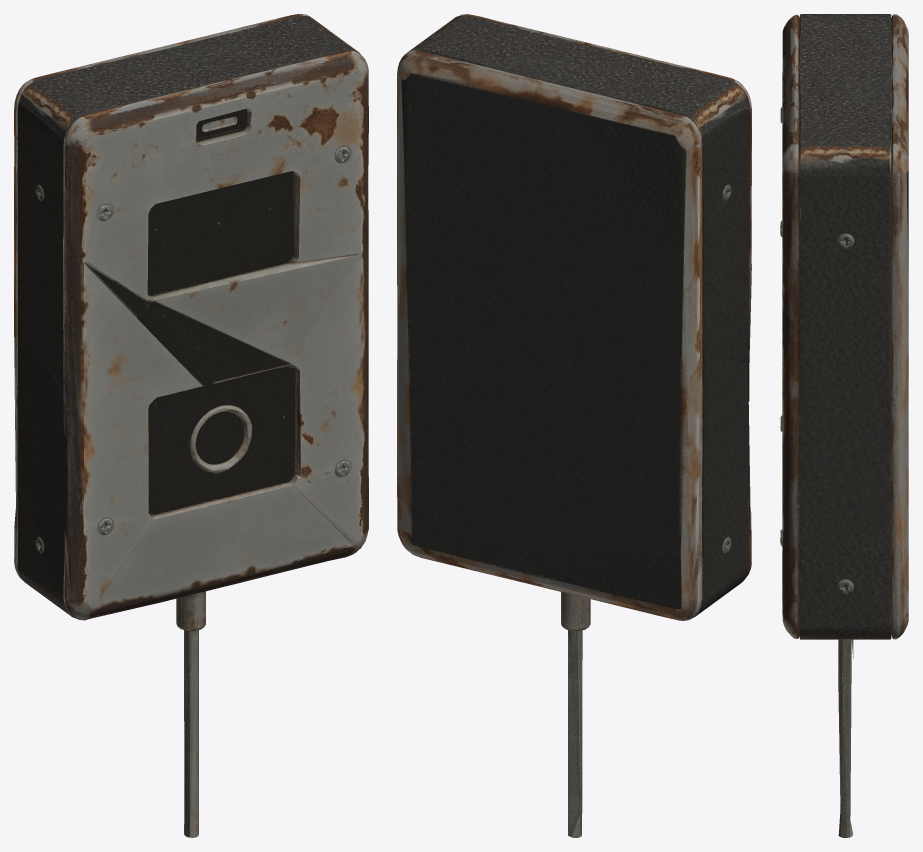
Rendered from lettore_2.glb.
3 views of the same model, side by side, from view 1: azimuth 30°, elevation 25°; view 2: azimuth 150°, elevation 25°; view 3: azimuth 270°, elevation 25° (orthographic).
Size of the model in its own units: 0.792 by 1.9 by 0.2924.
1 material, 1 textured.
